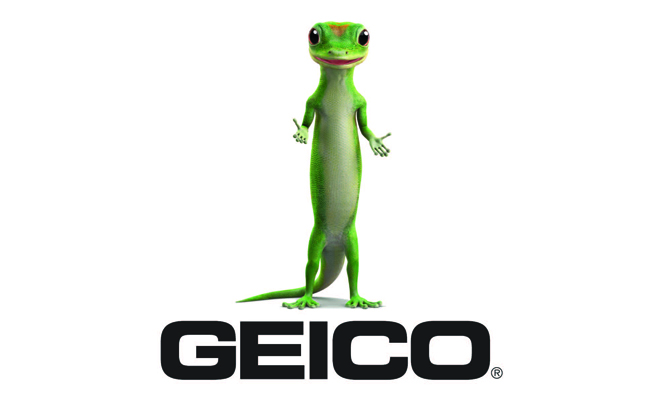geico: (160, 317, 529, 386)
